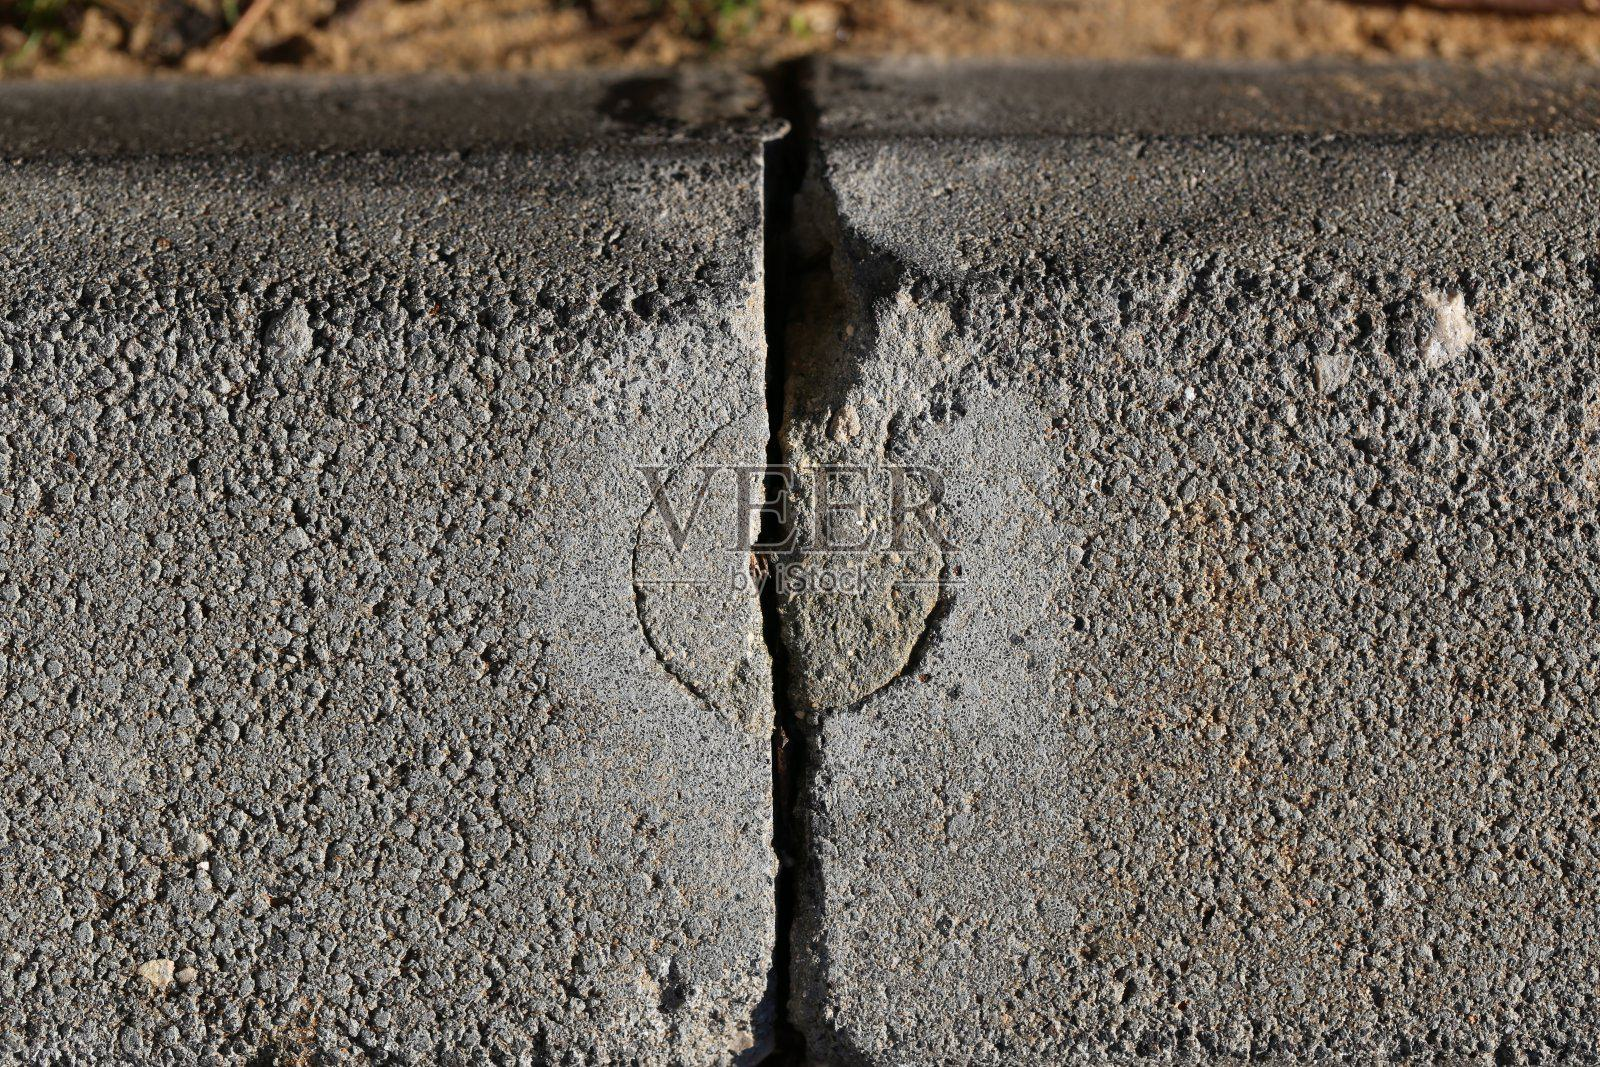Crack: (748, 58, 905, 1067)
